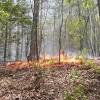fire: (50, 56, 74, 64)
smoke: (44, 37, 59, 54)
